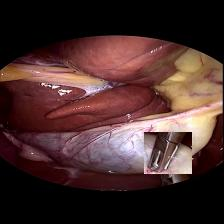Grasper: (144, 131, 192, 173)
